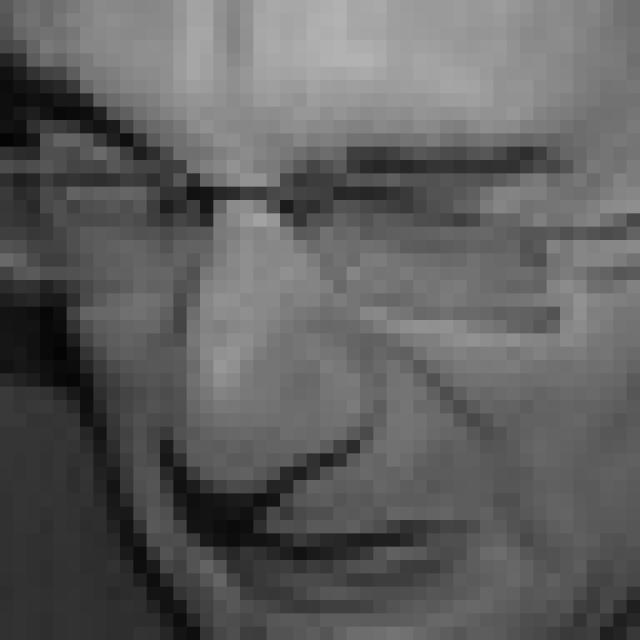disgust: (61, 79, 564, 612)
